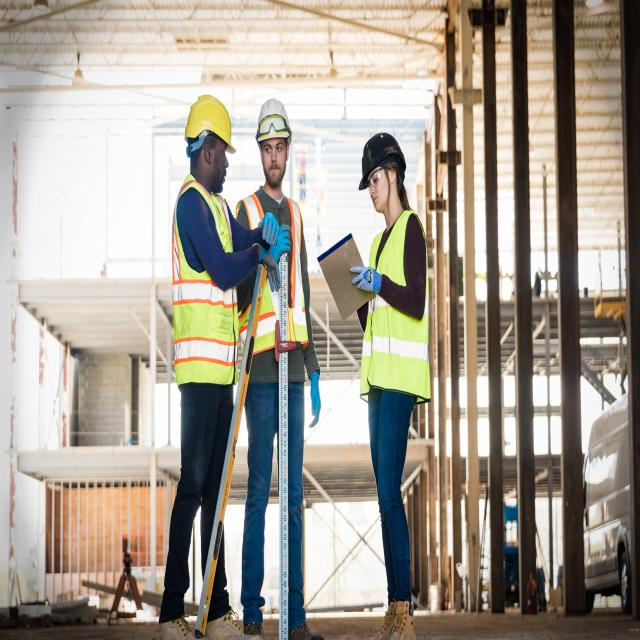Reflective-Jacket: (359, 209, 434, 402), (171, 178, 239, 390), (237, 190, 313, 358)
Safety-Helmet: (354, 127, 408, 192), (184, 88, 237, 152), (253, 92, 293, 146)
